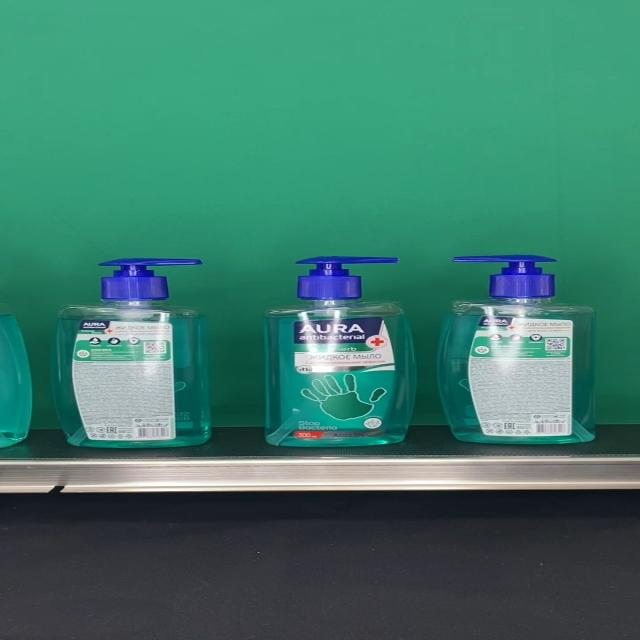Bottle: (49, 258, 212, 448), (436, 256, 597, 444), (263, 257, 417, 447)
Cap: (451, 255, 557, 298), (293, 257, 398, 300), (98, 258, 202, 300)
